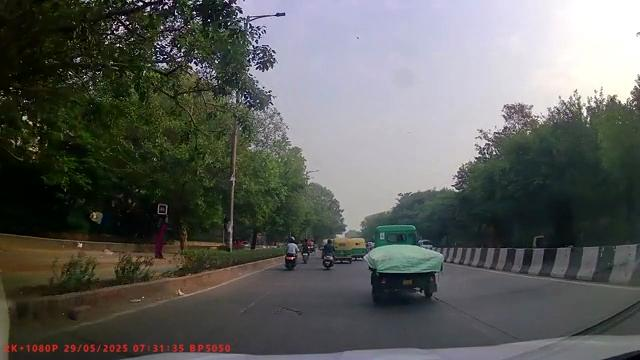motorcycle_with_helmet: (283, 234, 299, 270)
